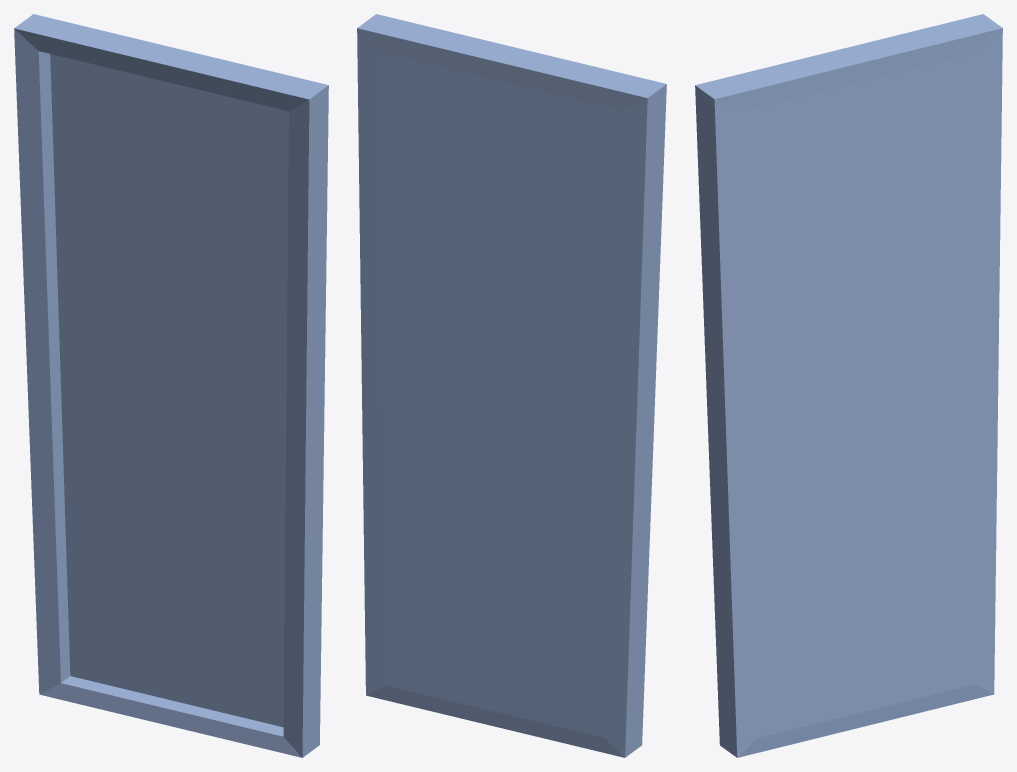
File: Estación_Heladera_Puerta_NoTextures.fbx
3 views of the same model, side by side, from view 1: azimuth 30°, elevation 25°; view 2: azimuth 210°, elevation 25°; view 3: azimuth 270°, elevation 25° (orthographic).
Parts seen in each view (by area): view 1: m_Heladera_Puerta; view 2: m_Heladera_Puerta; view 3: m_Heladera_Puerta.
Part boxes in pixels (<box>): m_Heladera_Puerta: <box>14,14,328,757</box>; m_Heladera_Puerta: <box>357,14,666,757</box>; m_Heladera_Puerta: <box>695,14,1002,757</box>.
Bounding box in the file's own units: 134 × 475 × 202.
